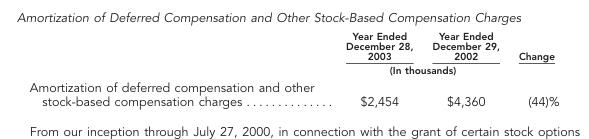table: (28, 29, 558, 108)
table column: (28, 29, 338, 108), (422, 29, 508, 108), (338, 29, 422, 108), (508, 29, 558, 108)
table column header: (28, 29, 558, 77)
table row: (28, 29, 558, 62), (28, 77, 558, 108), (28, 62, 558, 77)
table spanning cell: (338, 62, 508, 77), (508, 29, 558, 77)
